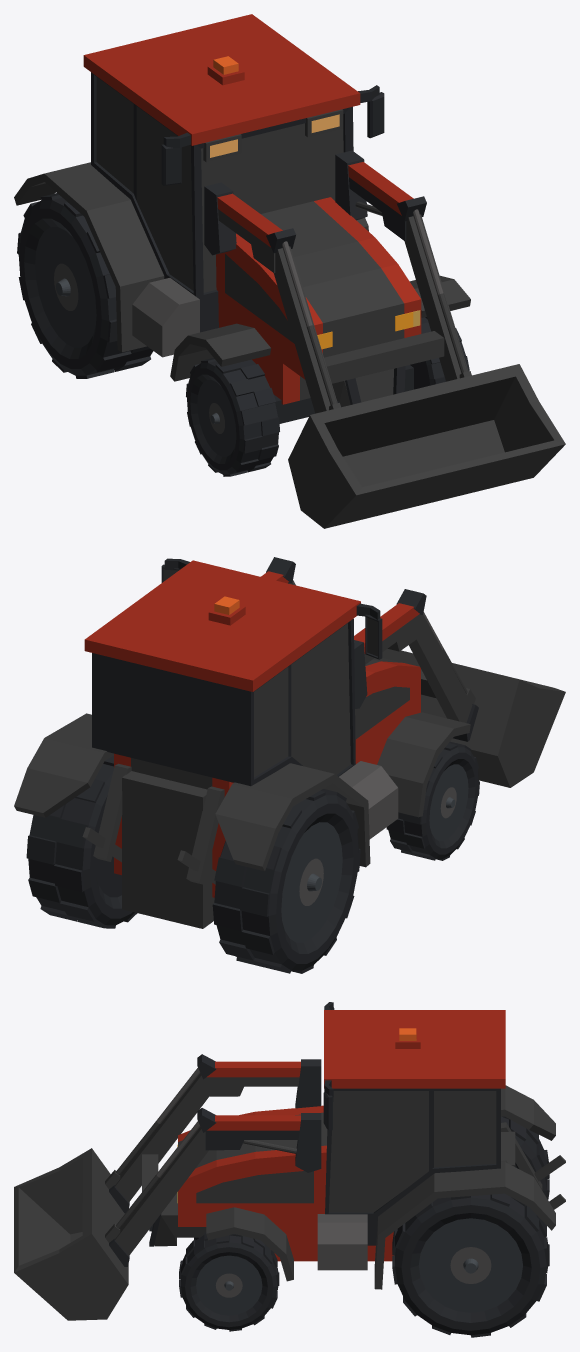
The model's file is TractorDigger_1.fbx.
3 views of the same model, one above another, from view 1: azimuth 30°, elevation 25°; view 2: azimuth 150°, elevation 25°; view 3: azimuth 270°, elevation 25° (orthographic). The views are drawn at different scales.
Visible parts, largest first — view 1: TractorDigger_1, Digger_1, TractorDiggerBackWheels_1, TractorDiggerFrontWheels_1; view 2: TractorDigger_1, TractorDiggerBackWheels_1, Digger_1, TractorDiggerFrontWheels_1; view 3: TractorDigger_1, Digger_1, TractorDiggerBackWheels_1, TractorDiggerFrontWheels_1.
Boxes of the visible parts, x1=… form: TractorDigger_1: x1=14, y1=14, x2=470, y2=423; Digger_1: x1=204, y1=150, x2=565, y2=528; TractorDiggerBackWheels_1: x1=17, y1=193, x2=153, y2=378; TractorDiggerFrontWheels_1: x1=186, y1=317, x2=469, y2=476; TractorDigger_1: x1=14, y1=558, x2=470, y2=928; TractorDiggerBackWheels_1: x1=26, y1=755, x2=360, y2=973; Digger_1: x1=261, y1=557, x2=565, y2=787; TractorDiggerFrontWheels_1: x1=386, y1=741, x2=479, y2=860; TractorDigger_1: x1=149, y1=1002, x2=565, y2=1289; Digger_1: x1=14, y1=1054, x2=321, y2=1320; TractorDiggerBackWheels_1: x1=392, y1=1116, x2=549, y2=1337; TractorDiggerFrontWheels_1: x1=179, y1=1232, x2=279, y2=1331.
Bounding box in the file's own units: 299 × 347 × 670.
